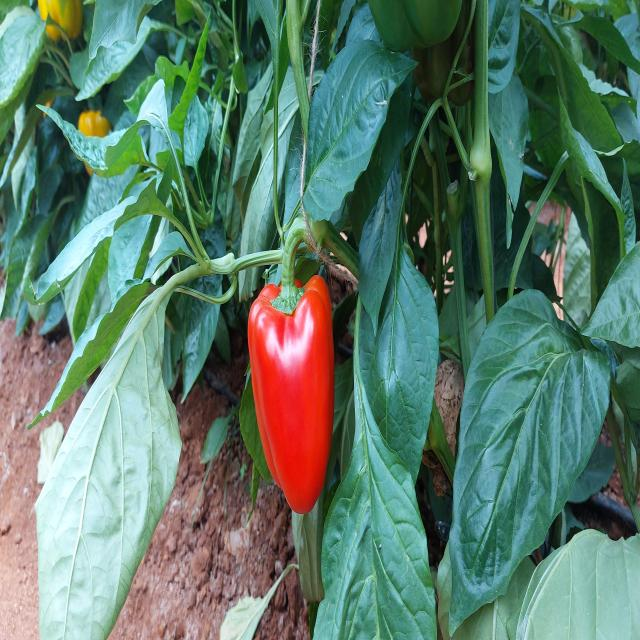Red-Ready-to-Harvest: (258, 275, 339, 505)
